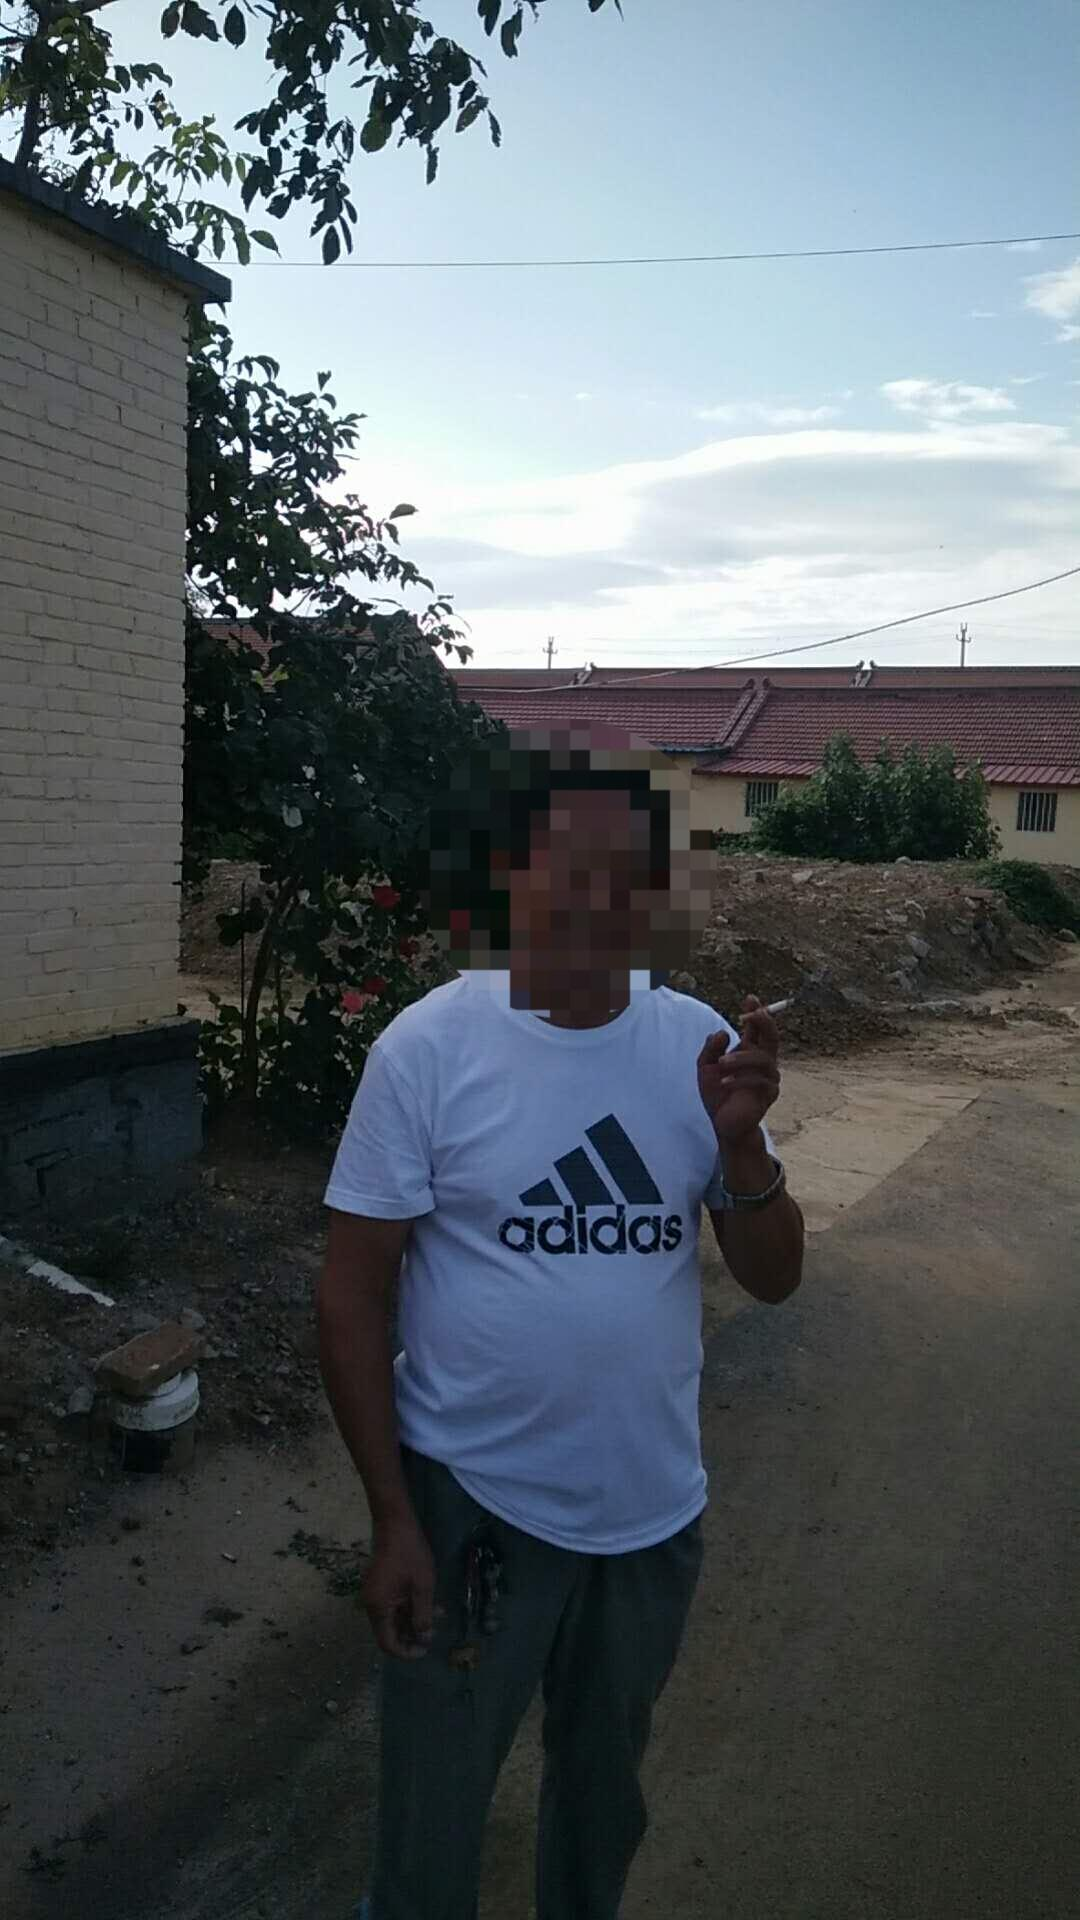smoke: (732, 993, 798, 1021)
